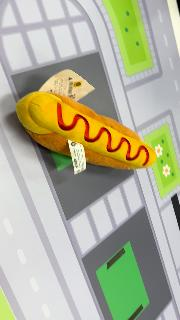hotdog: (15, 90, 157, 172)
